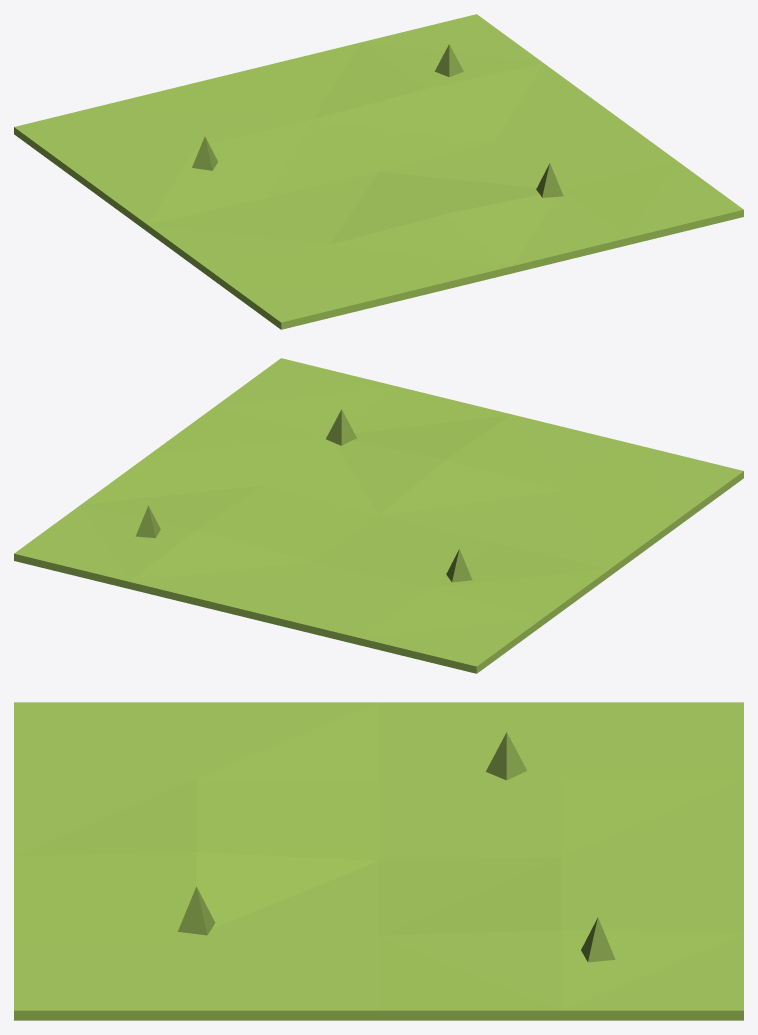
The model's file is lantai_ladang_v001.glb.
The picture shows the model from 3 angles, top to bottom: view 1: azimuth 30°, elevation 25°; view 2: azimuth 150°, elevation 25°; view 3: azimuth 270°, elevation 25°; orthographic projection. The views are drawn at different scales.
Parts seen in each view (by area): view 1: lantai_ladang; view 2: lantai_ladang; view 3: lantai_ladang.
Part boxes in pixels (bbox=[...]): lantai_ladang: bbox=[14, 14, 743, 329]; lantai_ladang: bbox=[14, 358, 743, 673]; lantai_ladang: bbox=[14, 702, 743, 1020].
Bounding box in the file's own units: 4 × 0.3 × 4.
